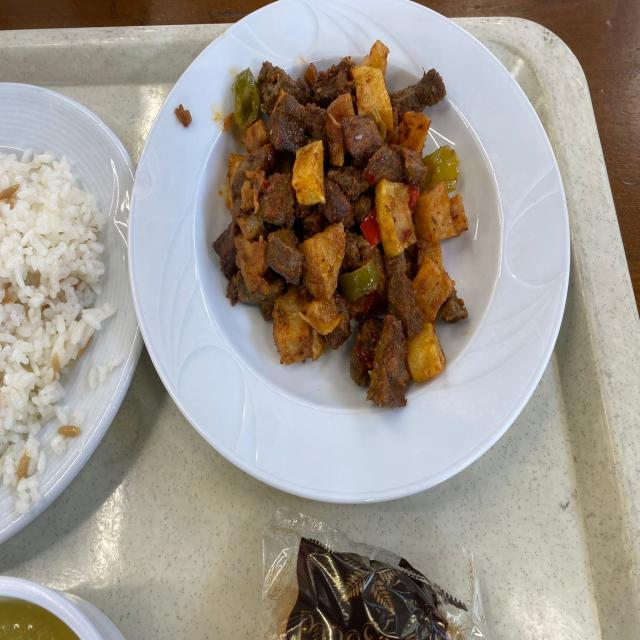ana_yemek: (210, 38, 473, 409)
